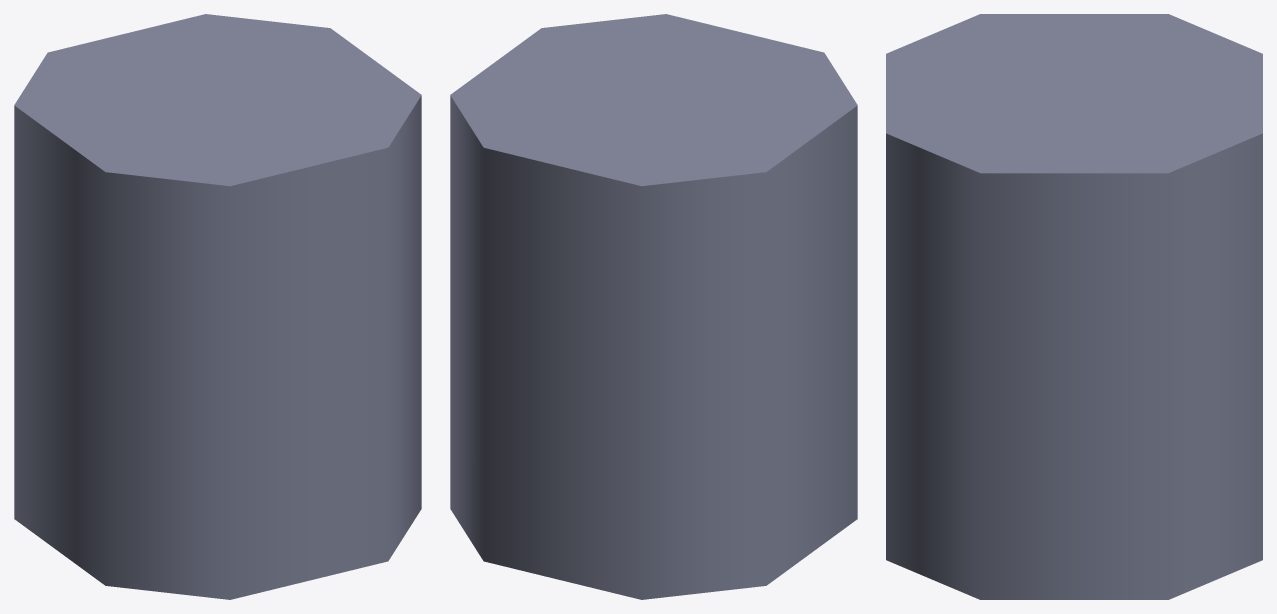
Rendered from support-single-middle.glb.
3 renders of one model, left to right at view 1: azimuth 30°, elevation 25°; view 2: azimuth 150°, elevation 25°; view 3: azimuth 270°, elevation 25°, orthographic. The views are drawn at different scales.
Parts seen in each view (by area): view 1: support-single-middle; view 2: support-single-middle; view 3: support-single-middle.
Part boxes in pixels (bbox=[...]): support-single-middle: bbox=[14, 14, 421, 599]; support-single-middle: bbox=[450, 14, 857, 599]; support-single-middle: bbox=[886, 14, 1262, 599].
Size of the model in its own units: 0.4 by 0.5 by 0.4.
Materials: 1 (1 with a texture image).
